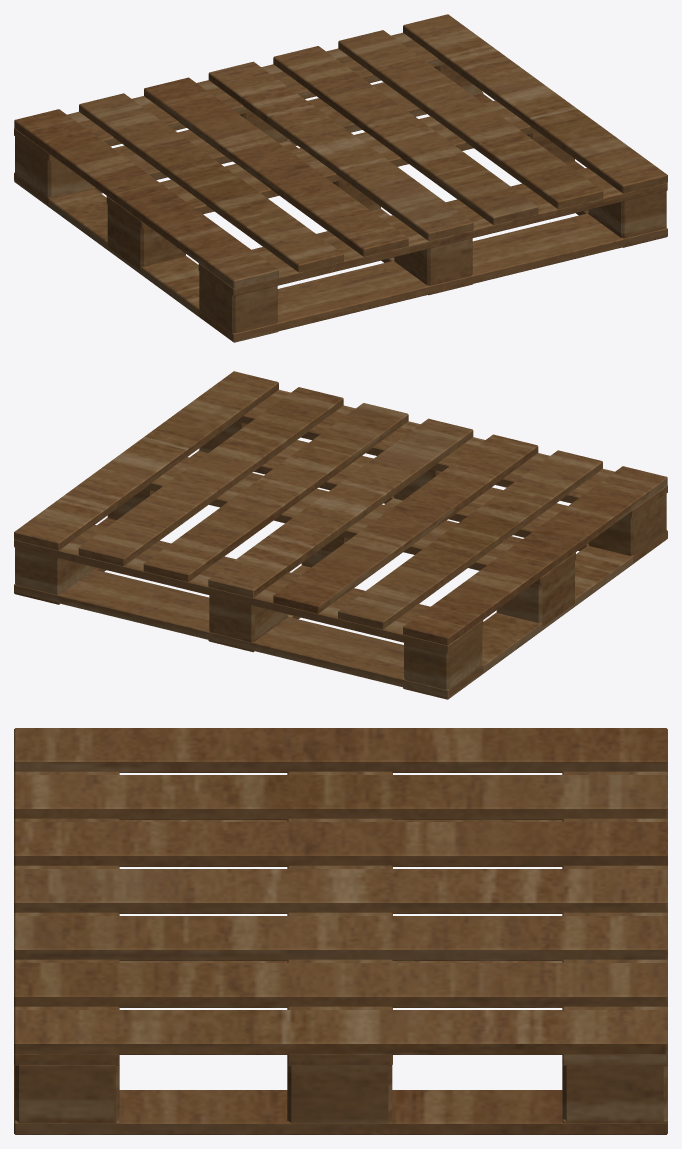
File: WoodenPallete.fbx
3 renders of one model, top to bottom at view 1: azimuth 30°, elevation 25°; view 2: azimuth 150°, elevation 25°; view 3: azimuth 270°, elevation 25°, orthographic. The views are drawn at different scales.
Parts seen in each view (by area): view 1: polySurface358_polySurface376; view 2: polySurface358_polySurface376; view 3: polySurface358_polySurface376.
Part boxes in pixels (box(x1,y1,x2,y2)): polySurface358_polySurface376: box(14, 14, 667, 342); polySurface358_polySurface376: box(14, 371, 667, 699); polySurface358_polySurface376: box(14, 728, 667, 1134).
Size of the model in its own units: 671 by 92.26 by 588.
